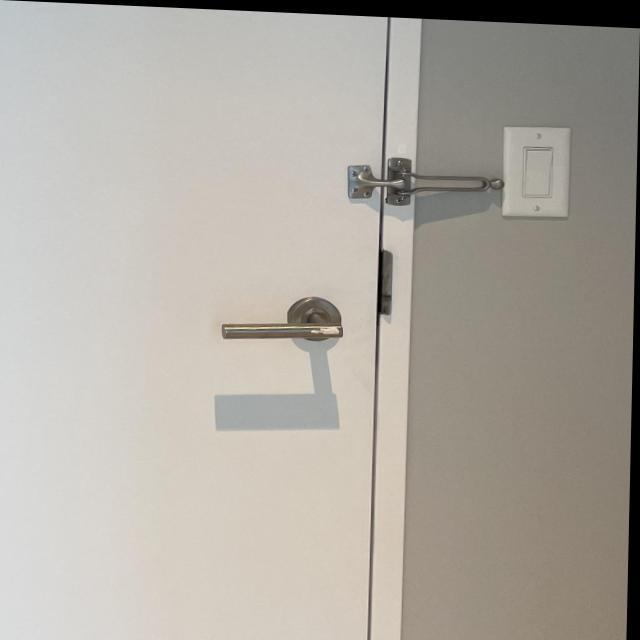door_handle: (209, 286, 367, 364)
